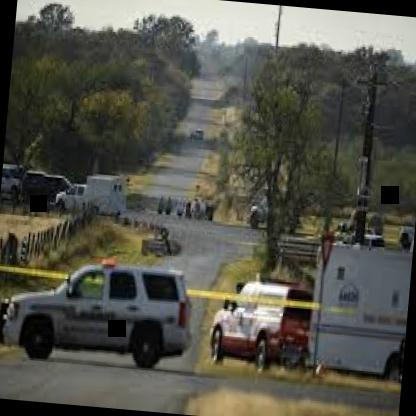car: (0, 235, 223, 395)
